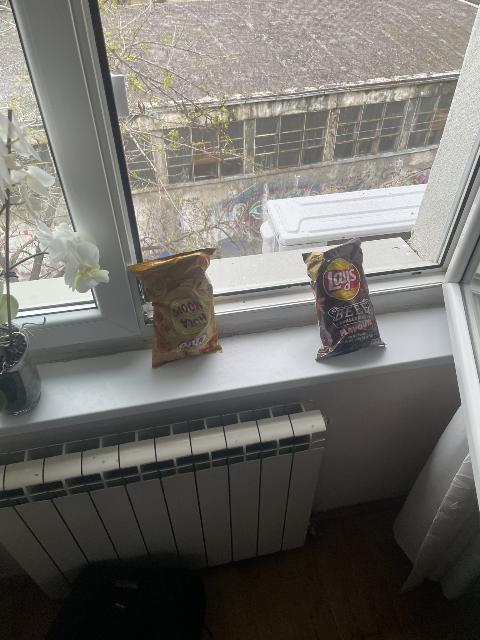Chio Hula Hoops Cheese 70g: (129, 247, 224, 367)
Lays Beef Grilled Ribs 125g: (305, 237, 386, 360)
